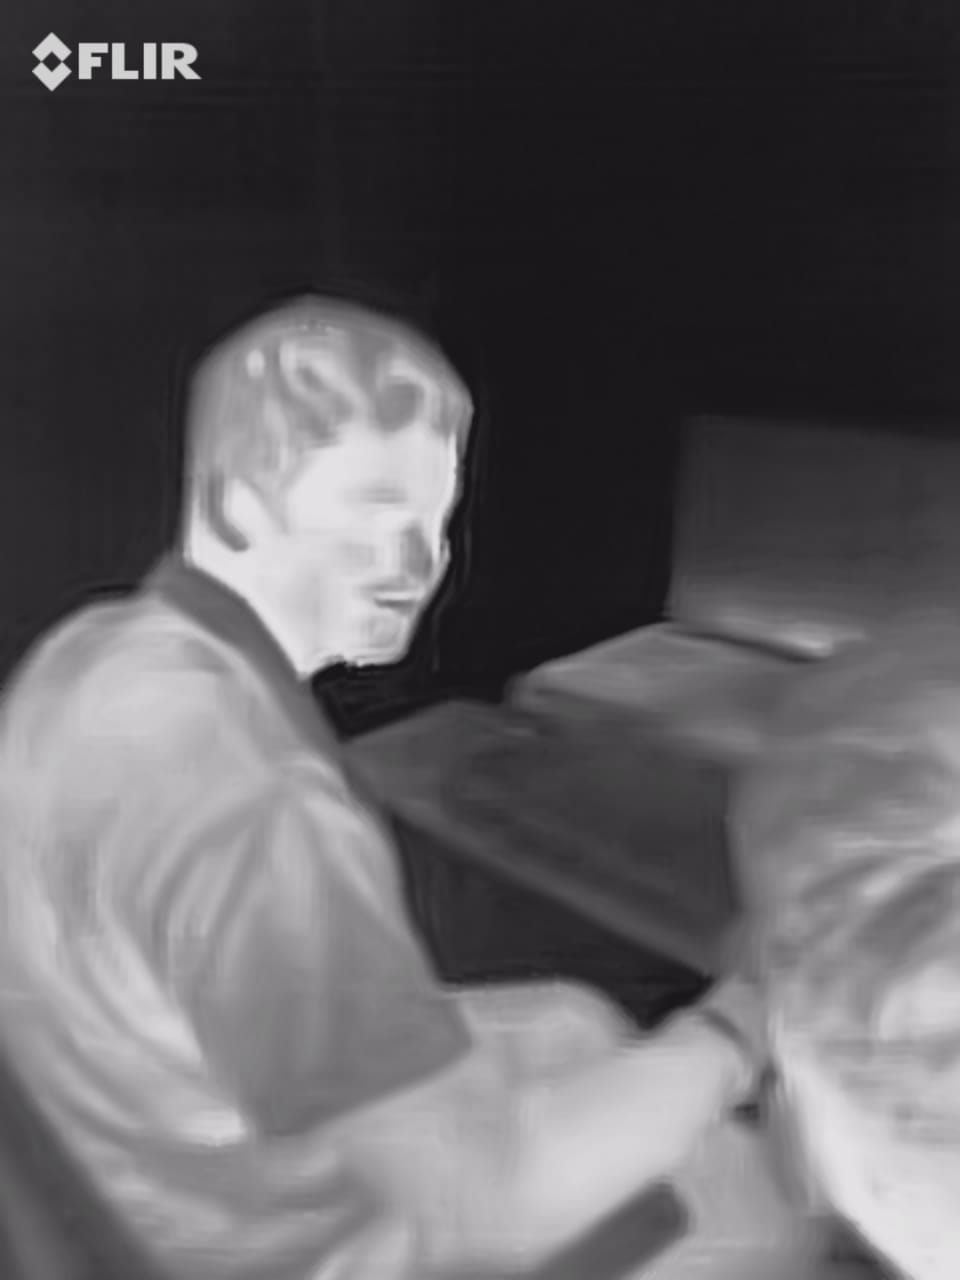head: (172, 269, 478, 691)
